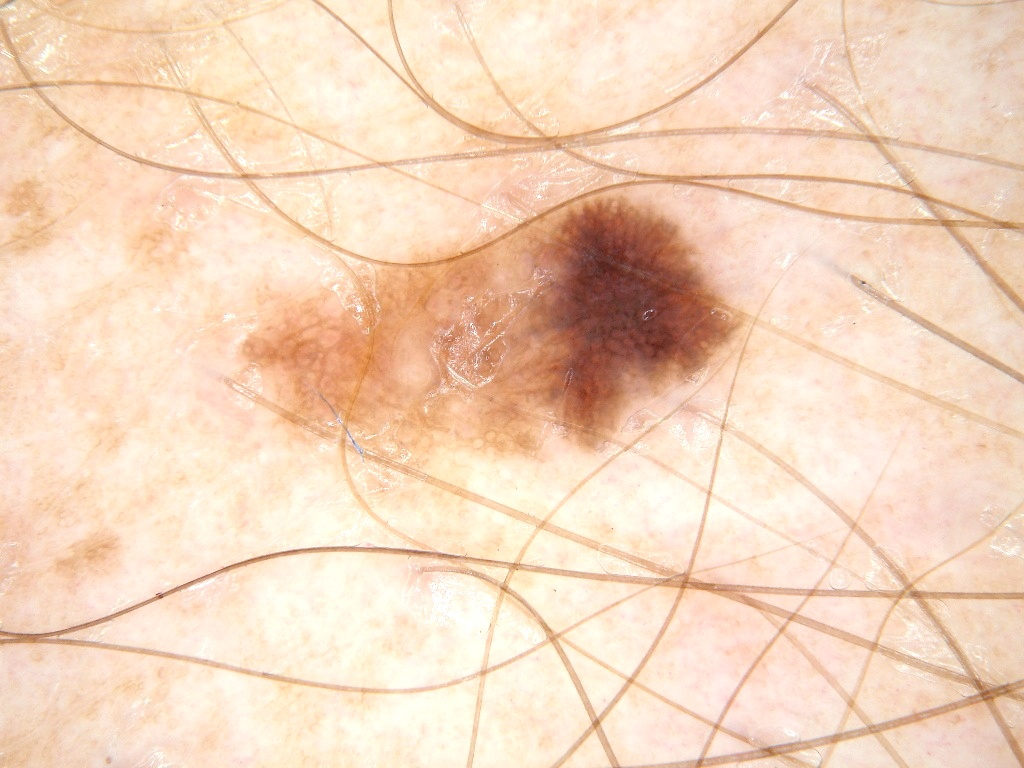Detected Lesion: (228, 188, 746, 471)
